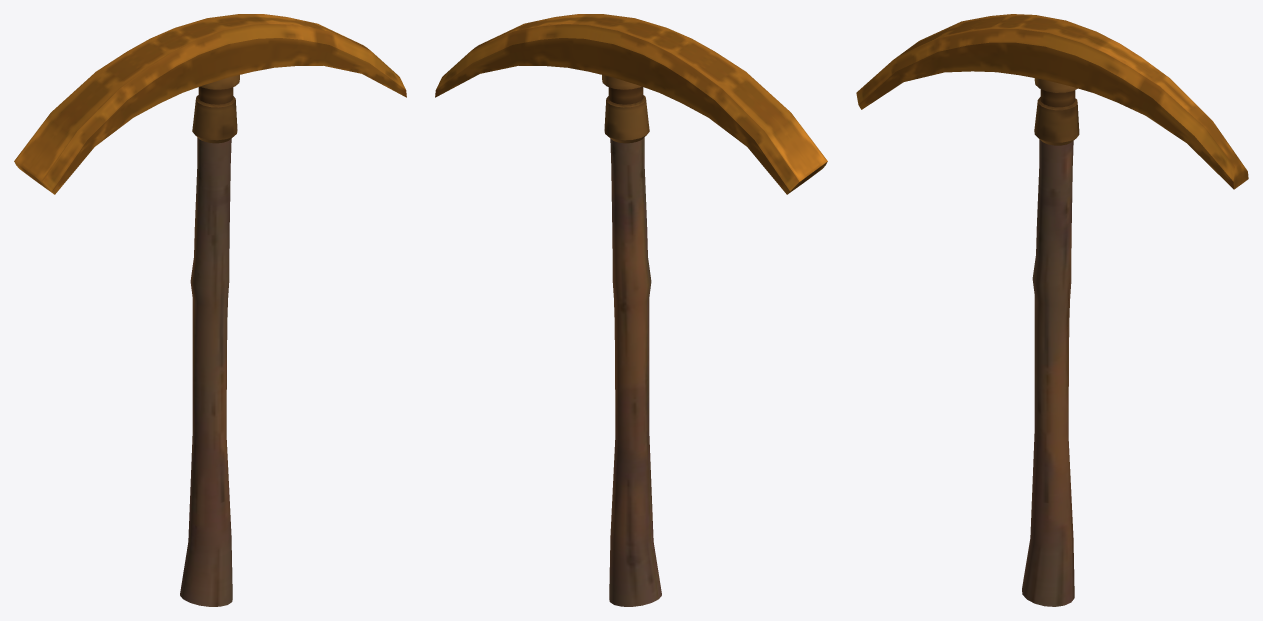
The model's file is Pickaxe_Bronze.glb.
3 views of the same model, side by side, from view 1: azimuth 30°, elevation 25°; view 2: azimuth 150°, elevation 25°; view 3: azimuth 330°, elevation 25° (orthographic).
Parts seen in each view (by area): view 1: Pickaxe_Bronze; view 2: Pickaxe_Bronze; view 3: Pickaxe_Bronze.
Boxes of the visible parts, left/top/right/bottom form: Pickaxe_Bronze: left=14, top=14, right=406, bottom=606; Pickaxe_Bronze: left=435, top=14, right=827, bottom=606; Pickaxe_Bronze: left=856, top=14, right=1248, bottom=606.
Bounding box in the file's own units: 0.8129 × 1.2 × 0.1357.
1 material, 1 textured.
